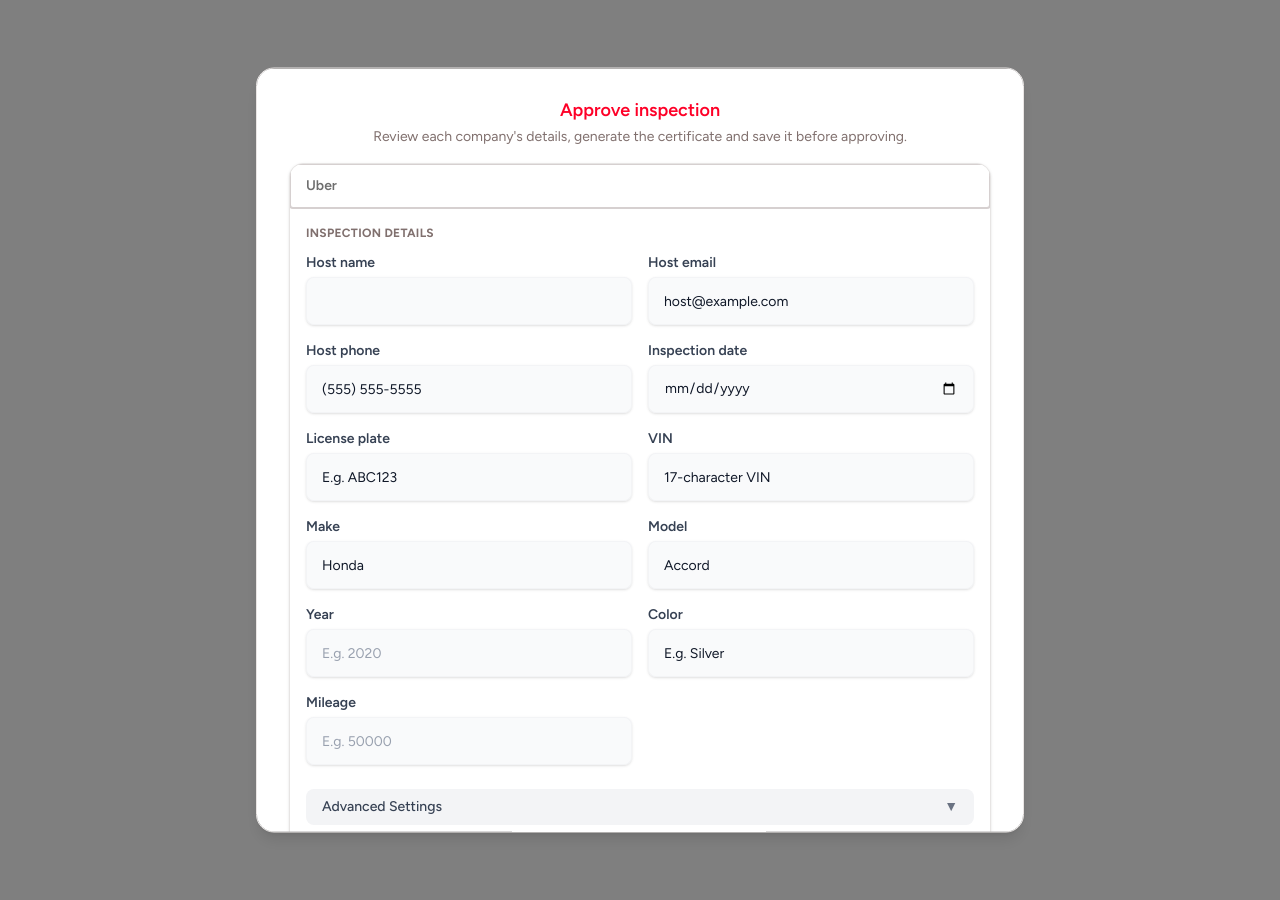
Test: ApprovalDialog › shows the province field for a Canada inspection
Click the button "Advanced Settings ▼": (382, 806) left=306, top=788, right=974, bottom=824
(page scrolled)
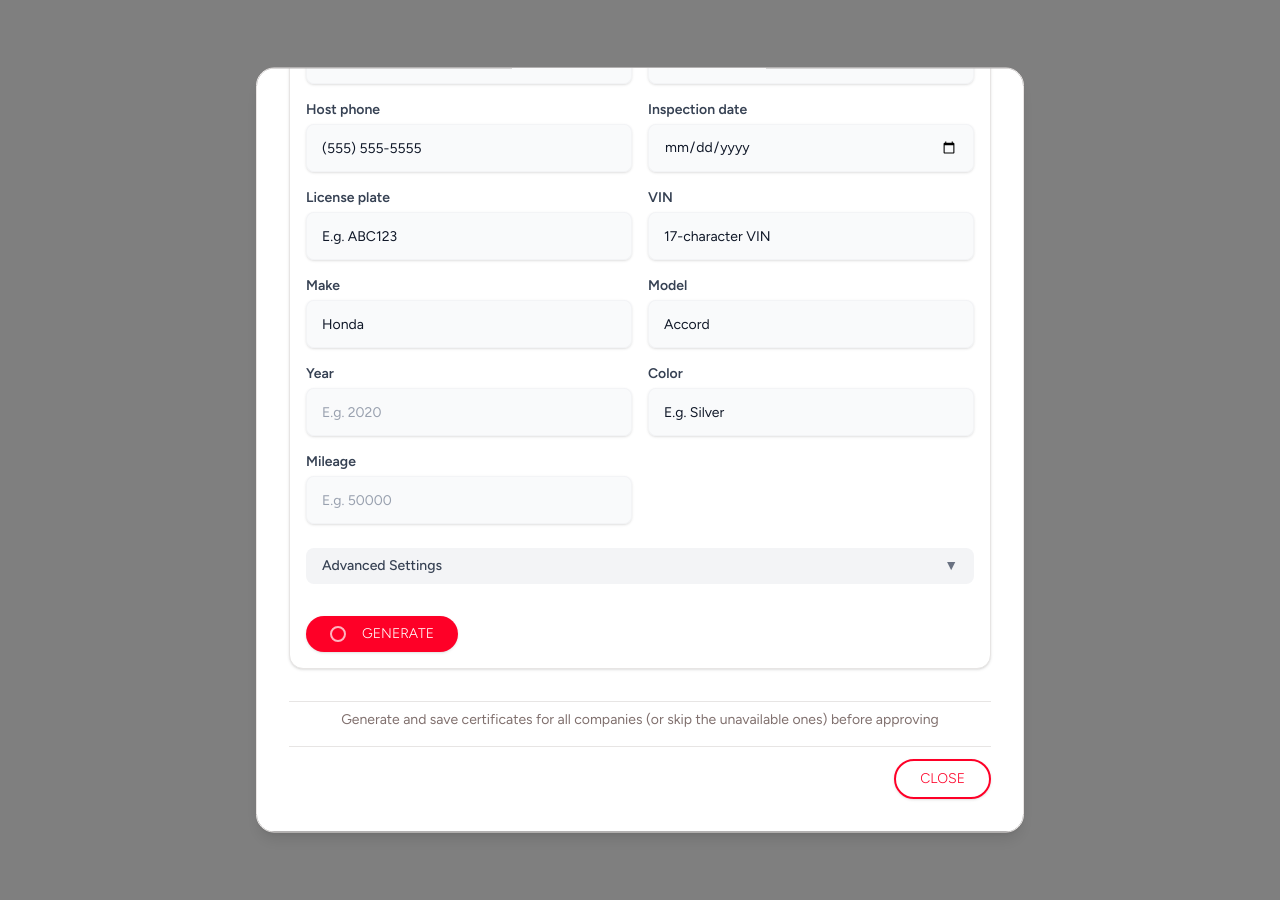
Click the button "Advanced Settings ▼": (382, 566) left=306, top=548, right=974, bottom=584
(page scrolled)
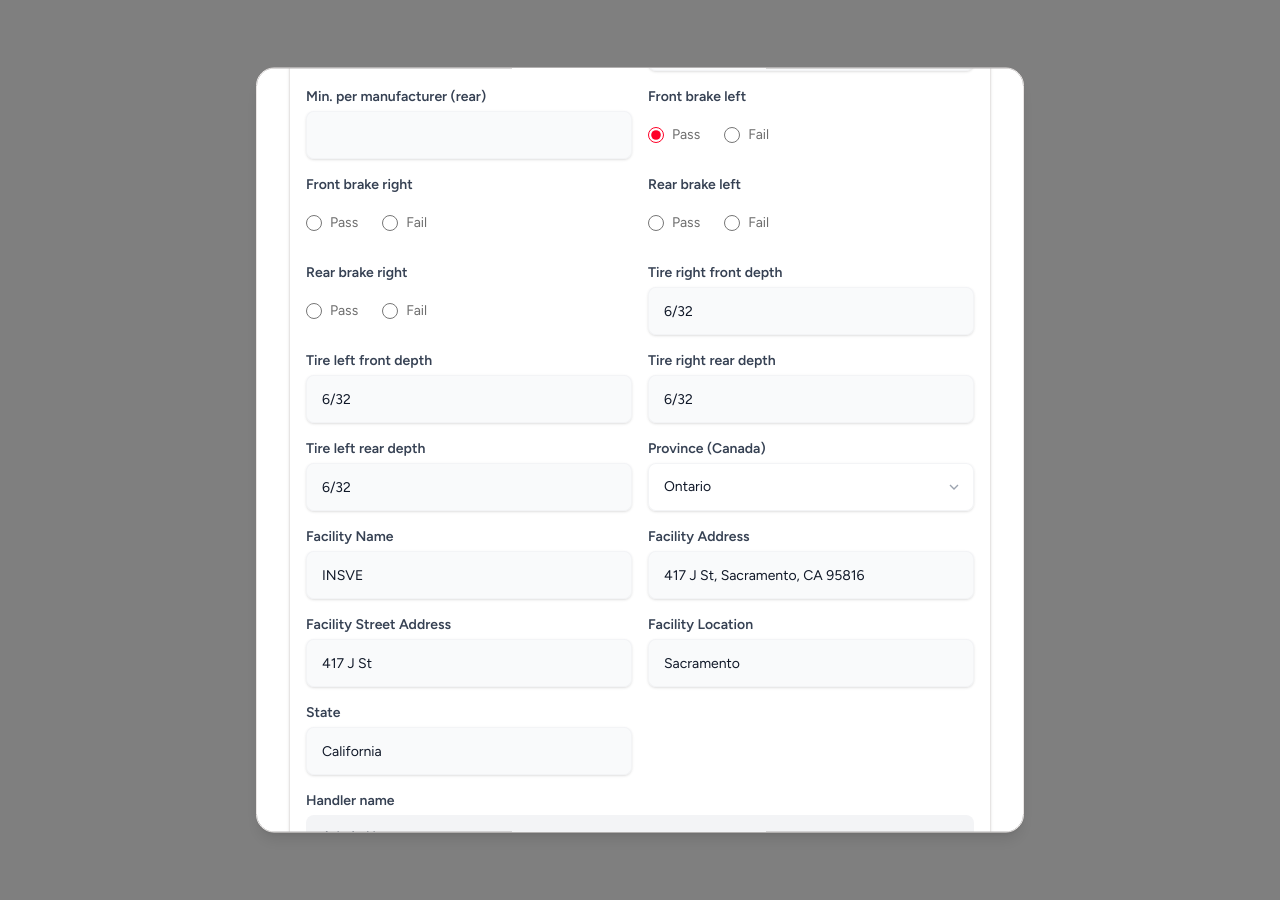
Result: the text "Province (Canada)" is shown at left=648, top=440, right=766, bottom=458
